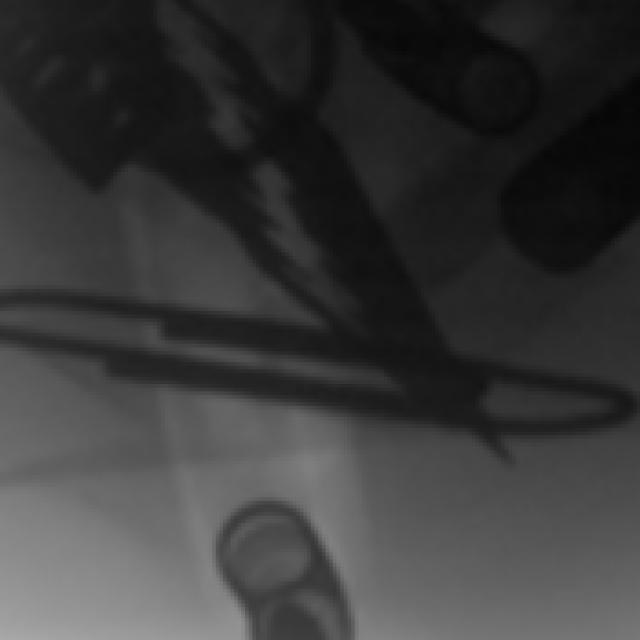GUN: (99, 1, 518, 475)
